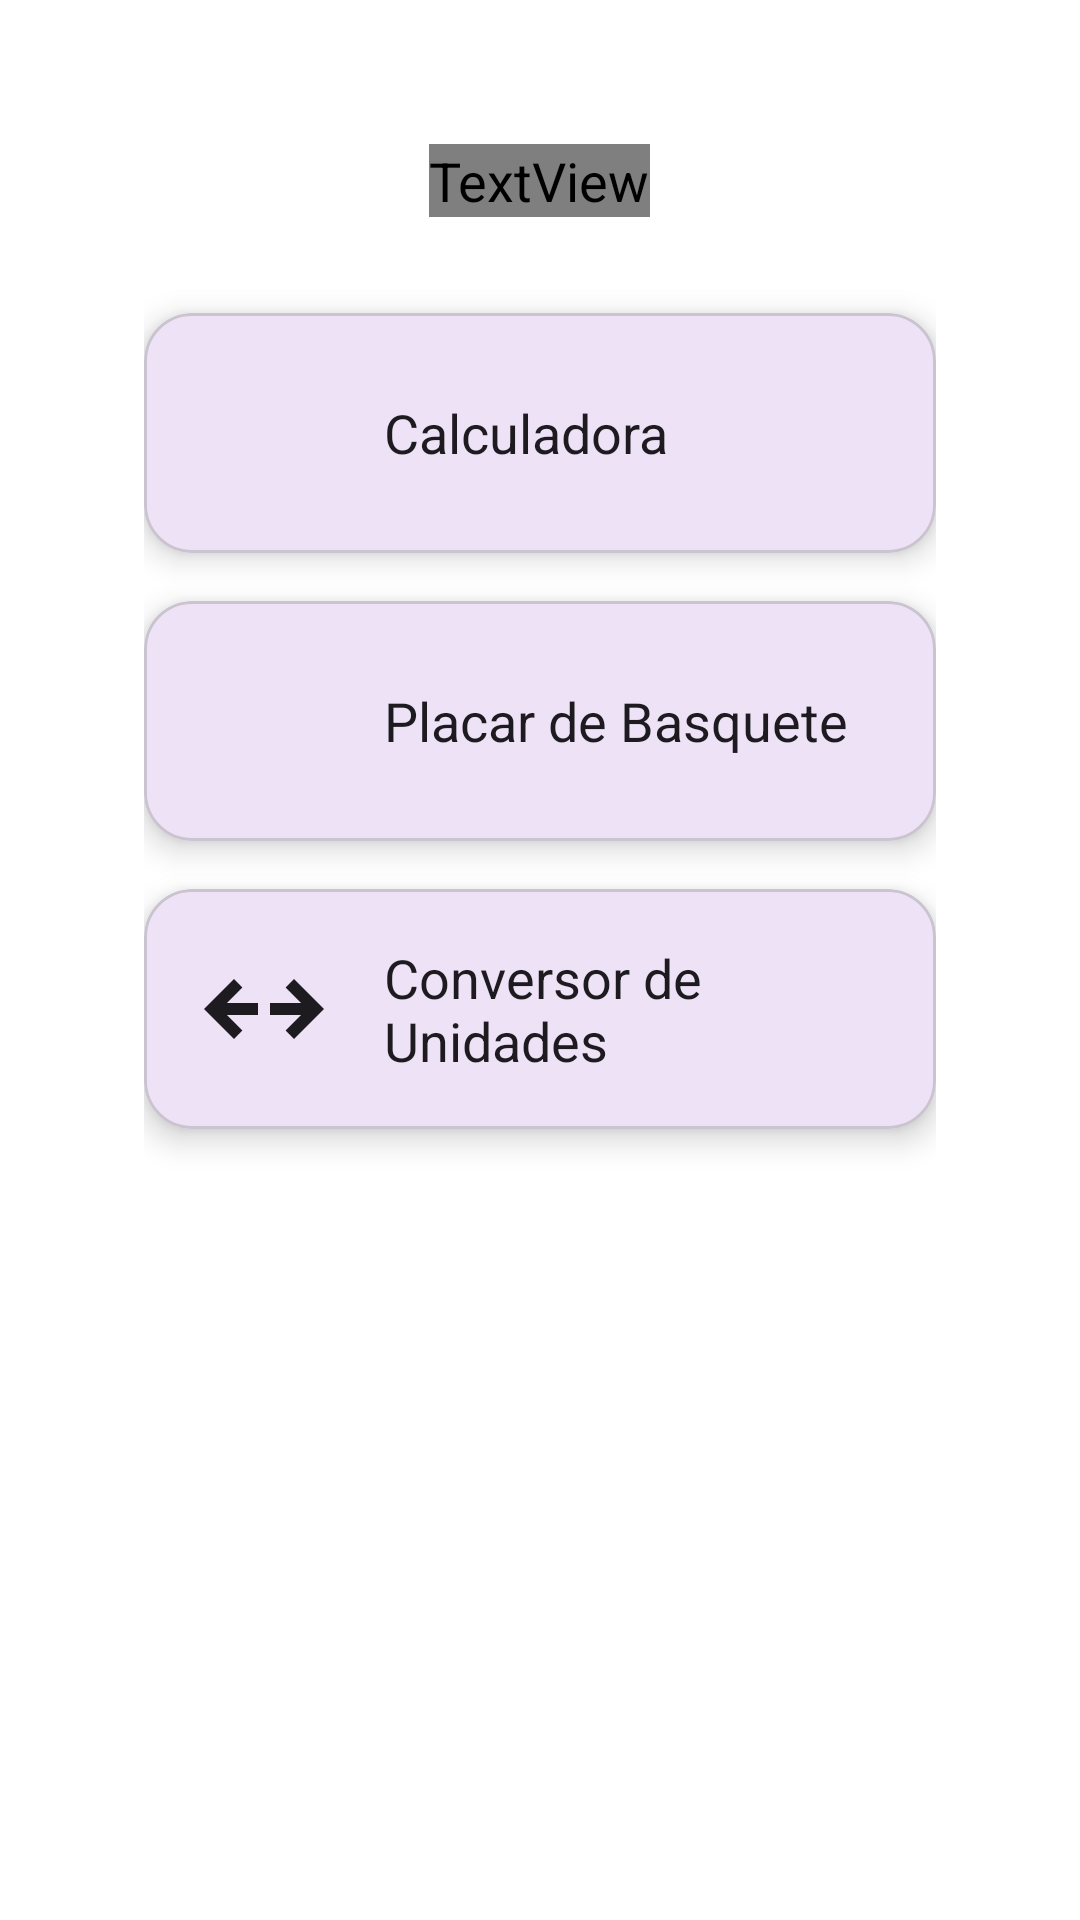

Icon bounding boxes for this 1080px×1920px phone screenshot, format [left=x1, top=y1, right=x2, bottom=y2]:
converter: [left=204, top=979, right=324, bottom=1039]
